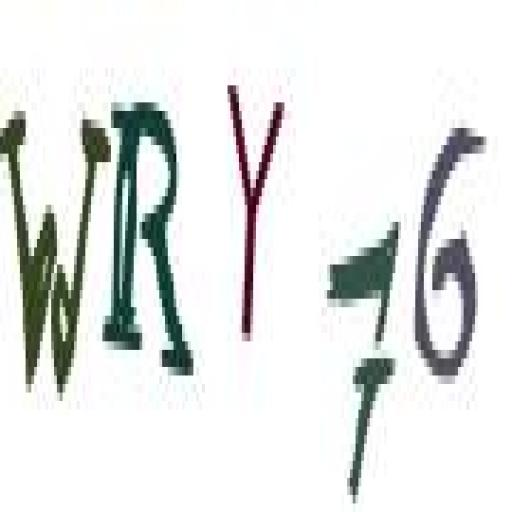6: (410, 98, 496, 411)
7: (318, 213, 408, 501)
R: (104, 83, 197, 397)
W: (0, 90, 107, 408)
Y: (221, 66, 286, 350)
